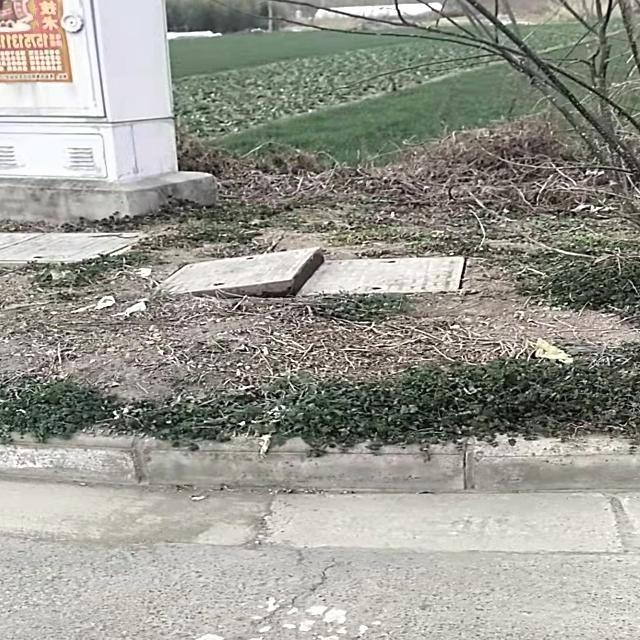uncovered: (150, 243, 474, 307)
